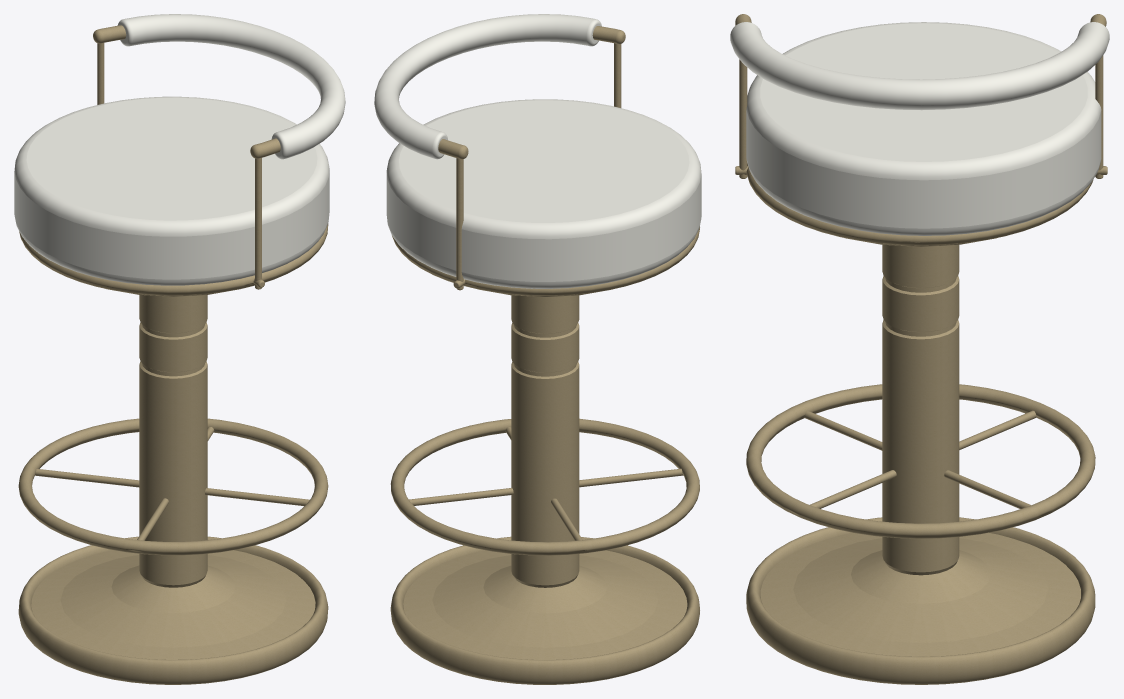
File: single_seat_packed.glb
3 views of the same model, side by side, from view 1: azimuth 30°, elevation 25°; view 2: azimuth 150°, elevation 25°; view 3: azimuth 270°, elevation 25° (orthographic). The views are drawn at different scales.
Size of the model in its own units: 0.4541 by 0.8295 by 0.4694.
2 materials, 1 textured.
